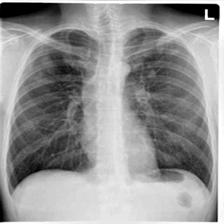tuberculosis: (1, 24, 218, 208)
